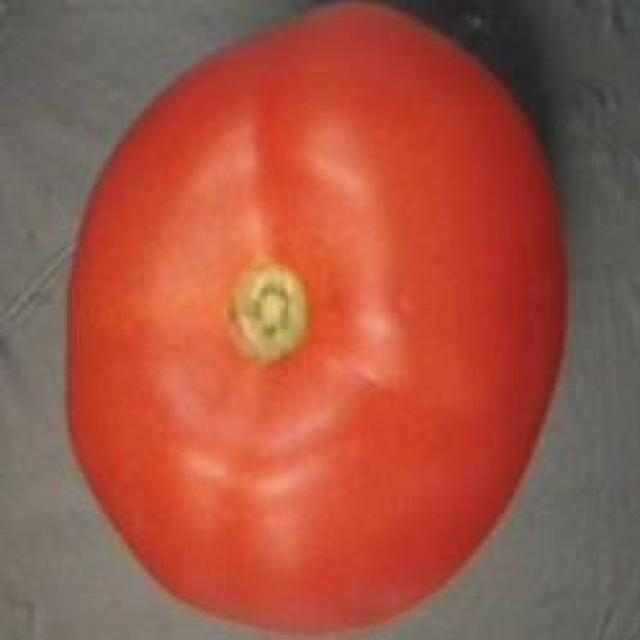ripe tomato: (54, 0, 581, 640)
